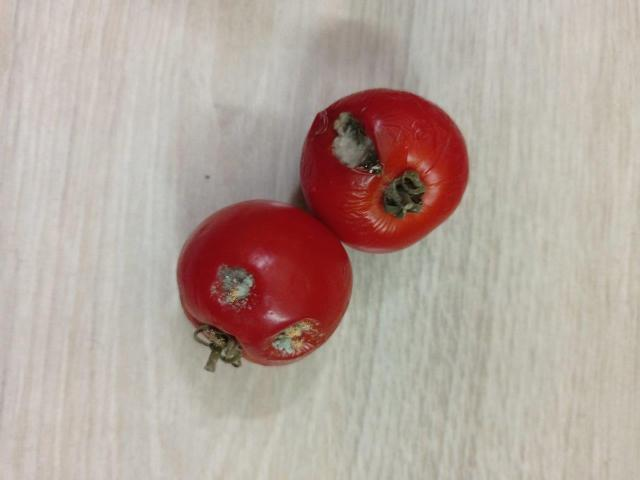defect: (170, 197, 355, 369), (295, 84, 474, 256)
